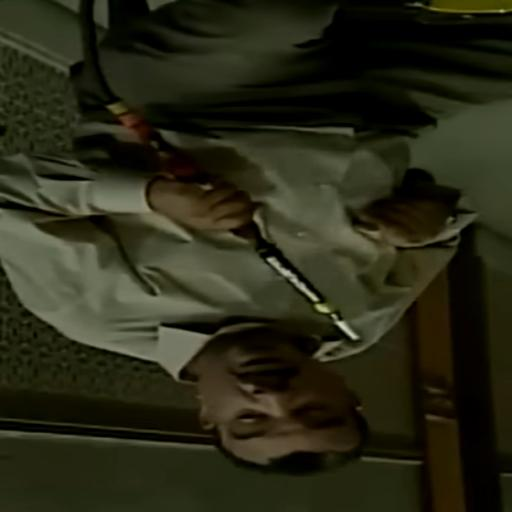slimane: (177, 325, 367, 475)
